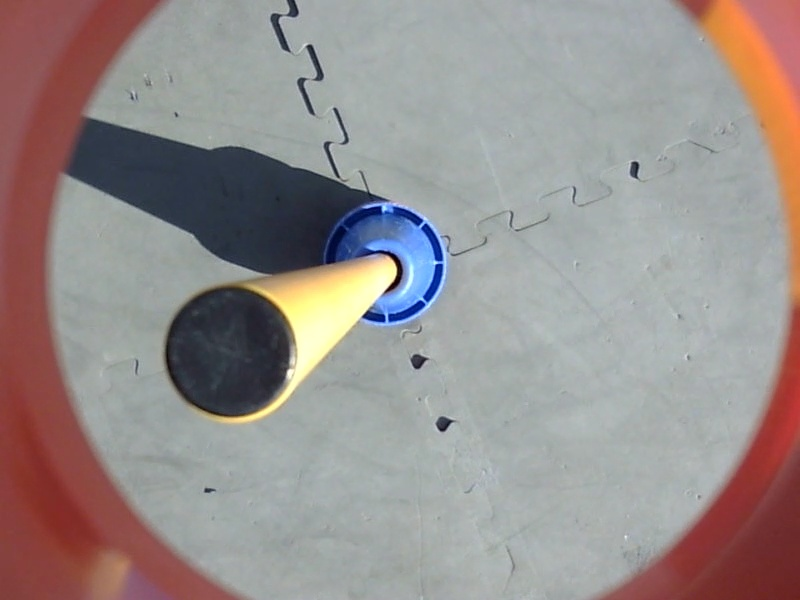tip: (156, 278, 307, 429)
